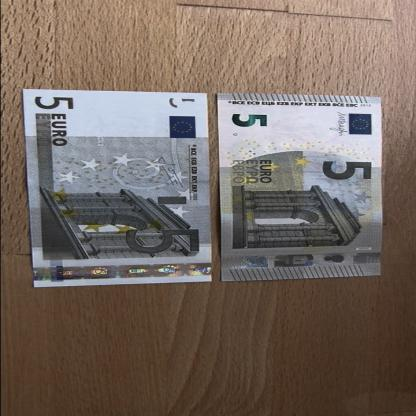euro_banknote: (20, 95, 218, 279), (208, 104, 397, 269)
